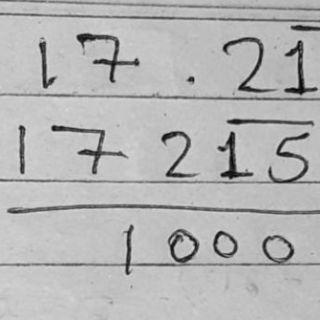.: (185, 70, 200, 89)
1: (282, 35, 320, 96), (215, 128, 258, 179), (33, 34, 62, 89), (116, 223, 137, 275), (16, 121, 30, 178)
2: (217, 30, 280, 94), (157, 124, 202, 181)
5: (266, 130, 311, 183)
7: (50, 120, 131, 177), (75, 26, 141, 87)
